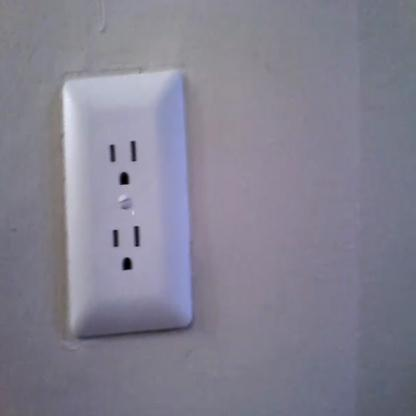OUTLET: (61, 74, 196, 337)
